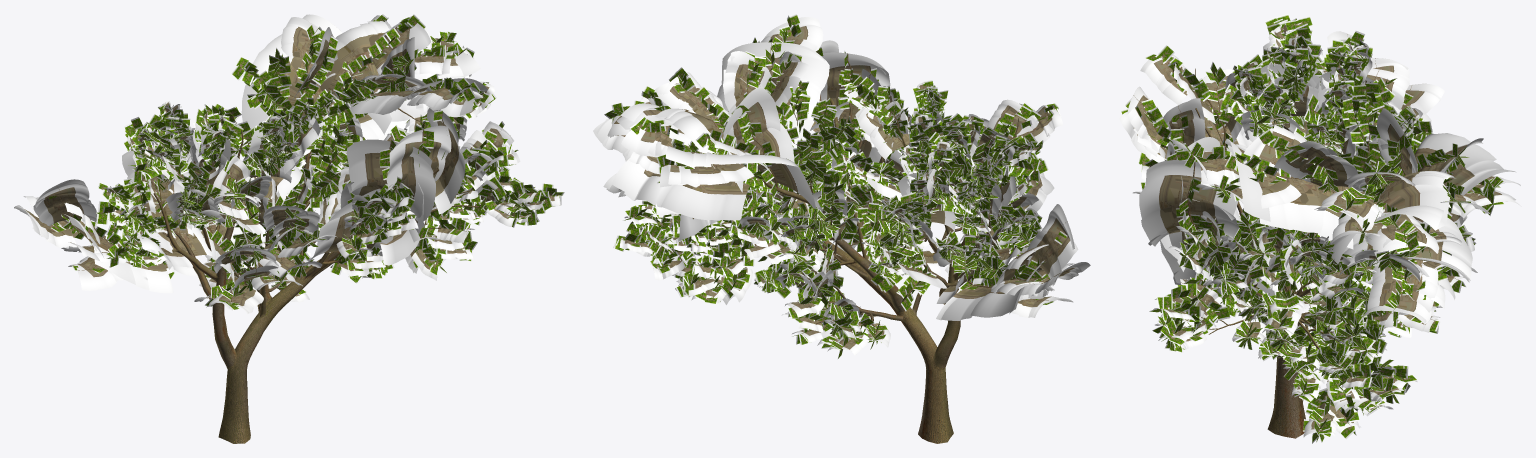
File: shu05.gltf
3 views of the same model, side by side, from view 1: azimuth 30°, elevation 25°; view 2: azimuth 150°, elevation 25°; view 3: azimuth 270°, elevation 25° (orthographic). The views are drawn at different scales.
Parts seen in each view (by area): view 1: 112; view 2: 112; view 3: 112.
Boxes of the visible parts, bbox=[...] form: 112: bbox=[14, 14, 564, 443]; 112: bbox=[593, 14, 1090, 443]; 112: bbox=[1119, 14, 1521, 443].
Size of the model in its own units: 6.86 by 4.9 by 4.51.
3 materials, 3 textured.
